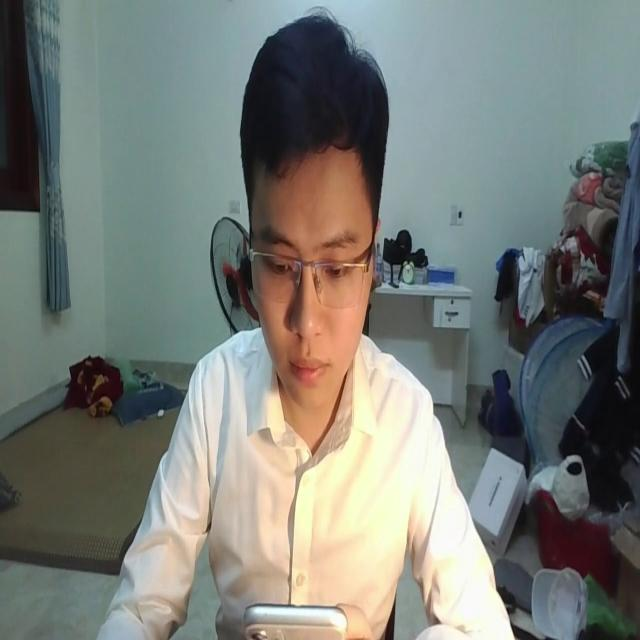phone: (243, 594, 344, 640)
student: (99, 24, 516, 640)
